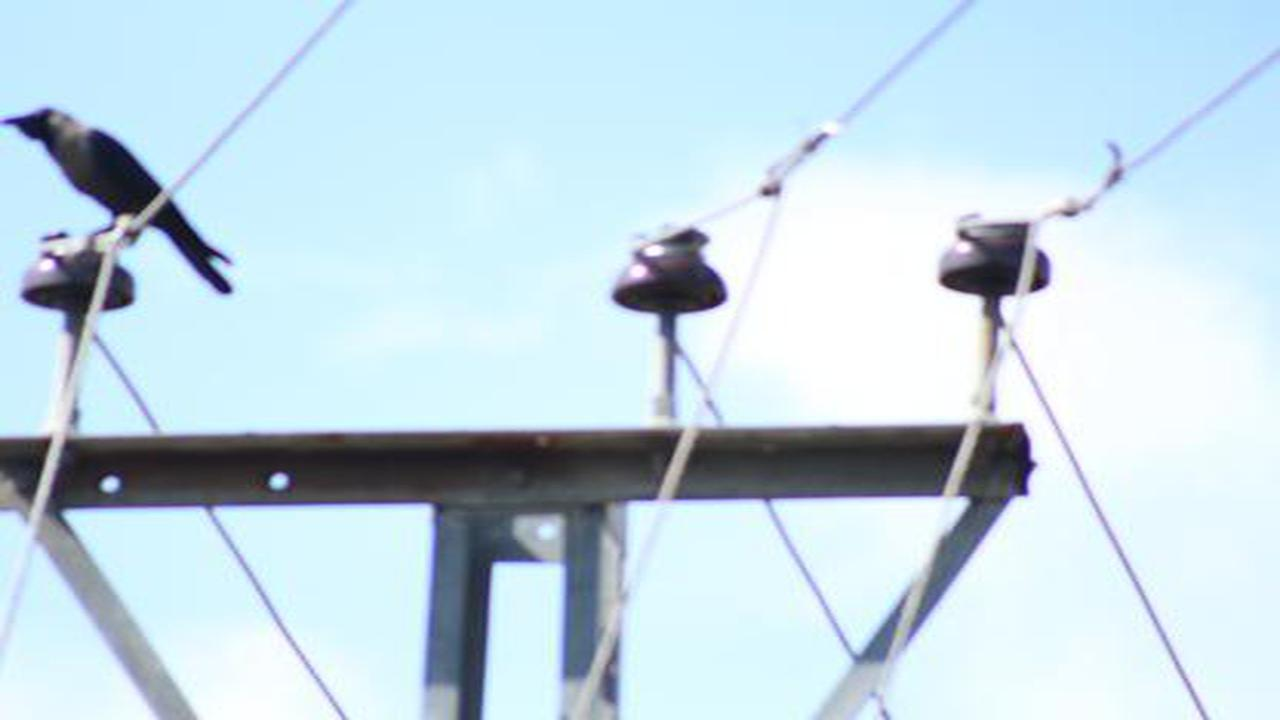insulator_pin: (609, 218, 735, 326), (931, 205, 1057, 301), (19, 226, 143, 320)
